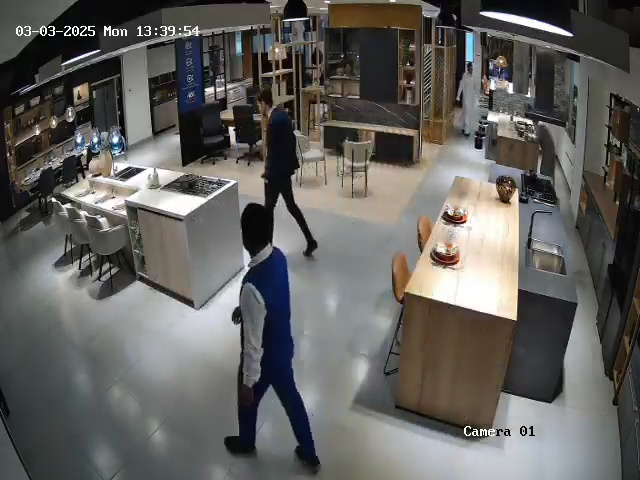employee: (224, 202, 321, 469), (257, 88, 318, 257)
male: (456, 62, 479, 137)
